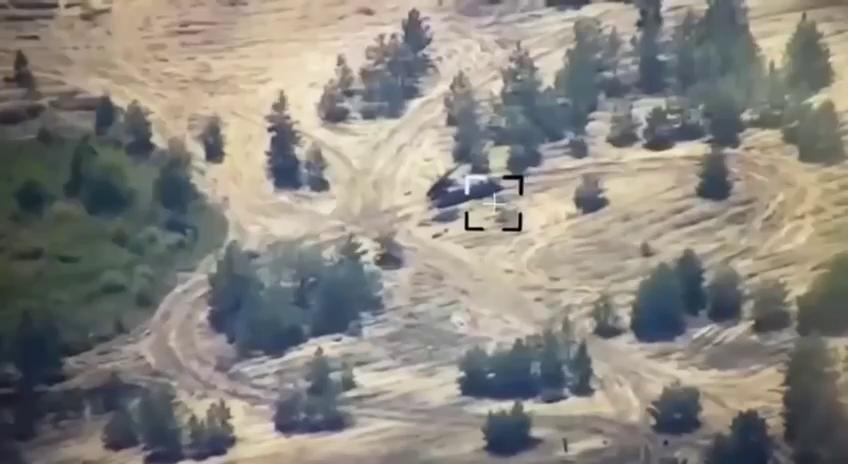tank: (426, 146, 506, 210)
